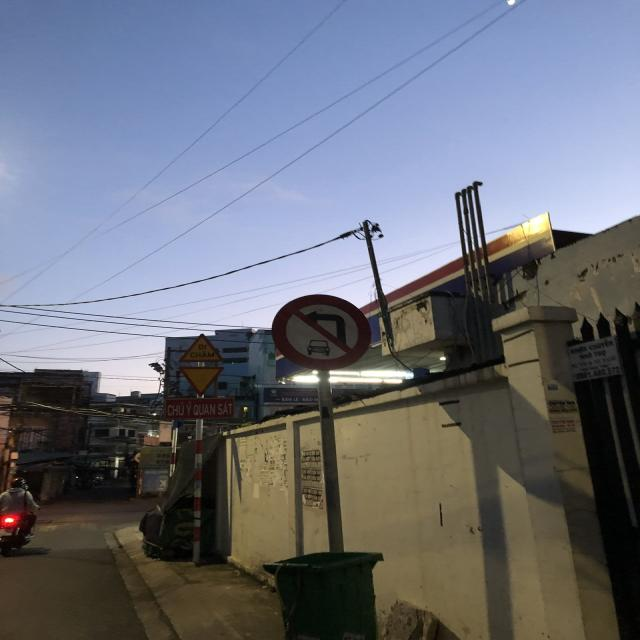Bien bao cam xe o to re trai: (270, 292, 376, 373)
Bien bao di cham: (175, 332, 227, 364)
Bien bao giao nhau voi duong uu tien: (174, 363, 228, 396)
